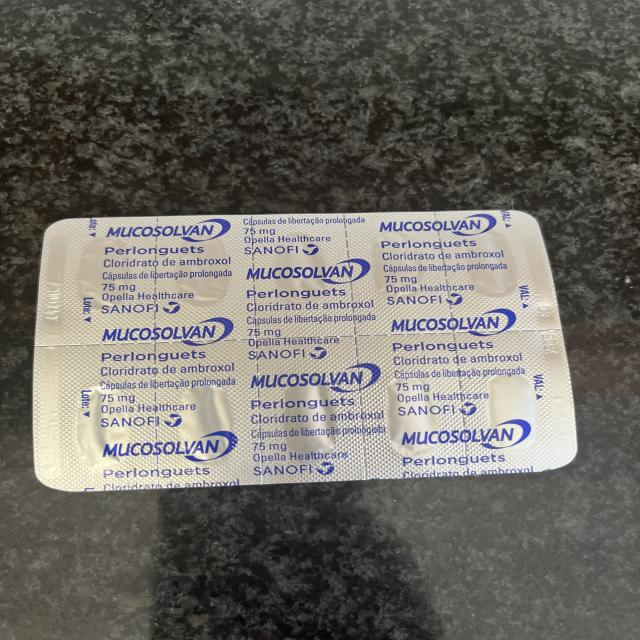Pill: (375, 373, 449, 460), (67, 382, 138, 472), (274, 379, 346, 463), (175, 381, 240, 465), (455, 228, 527, 299), (172, 232, 234, 309), (268, 228, 329, 306), (76, 233, 135, 312), (486, 372, 542, 452), (366, 230, 428, 302)
